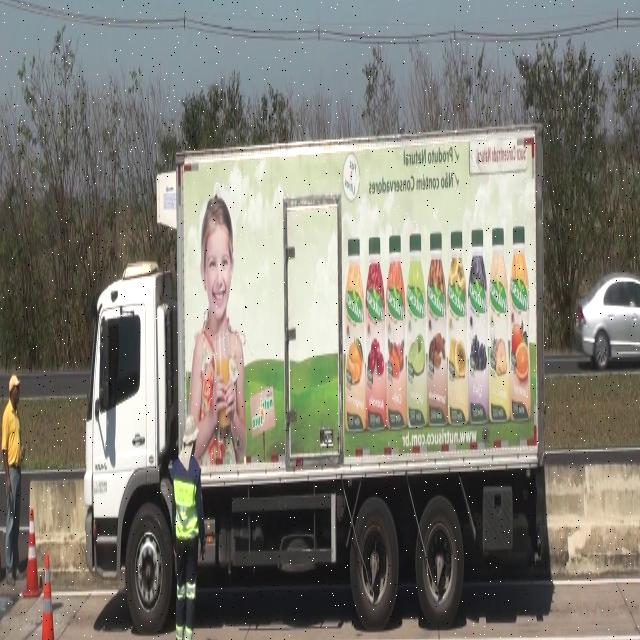-axle: (413, 490, 462, 632), (123, 502, 172, 636), (351, 493, 398, 632)
